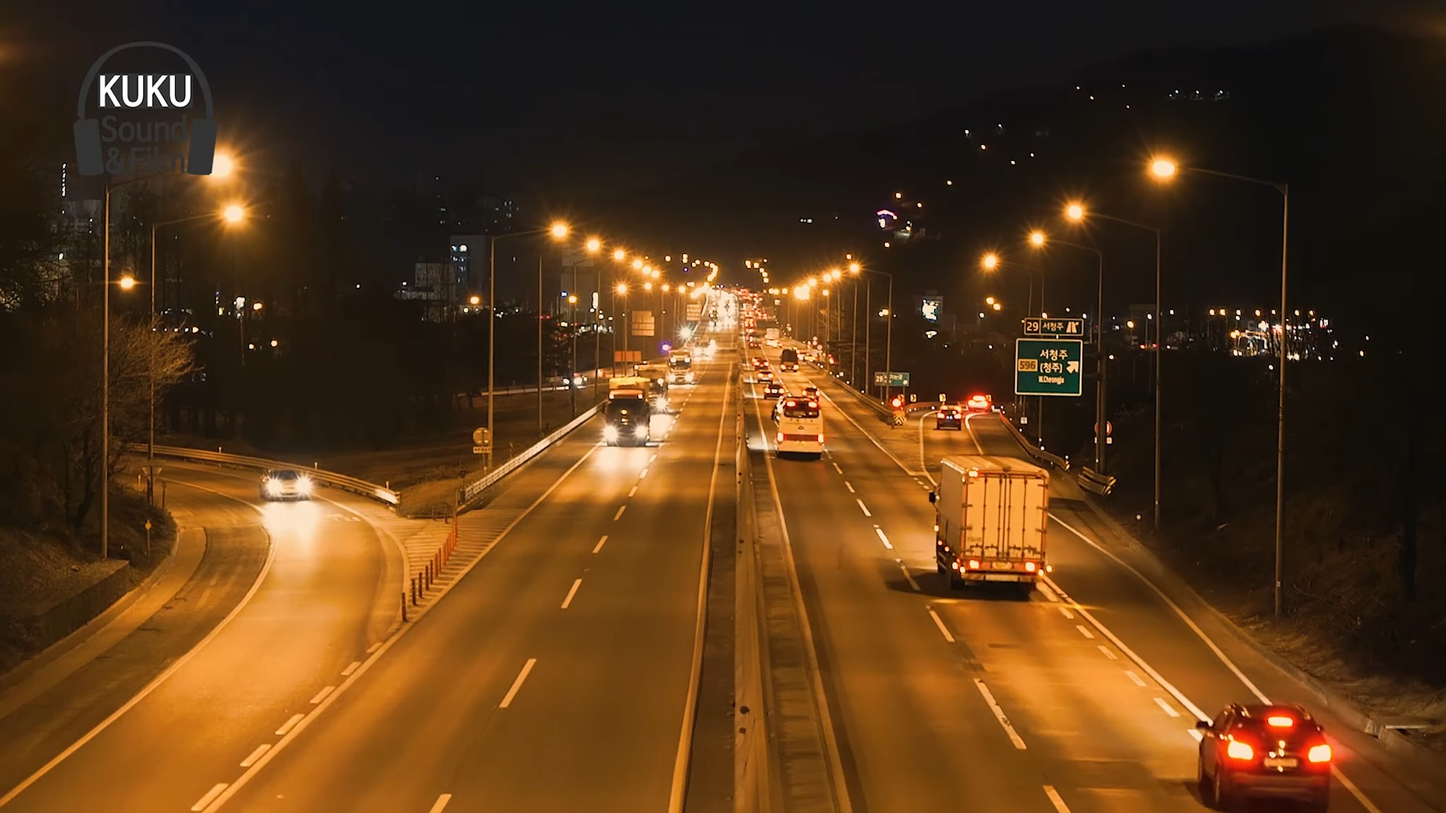car: (1195, 695, 1340, 812)
truck: (929, 448, 1052, 596)
